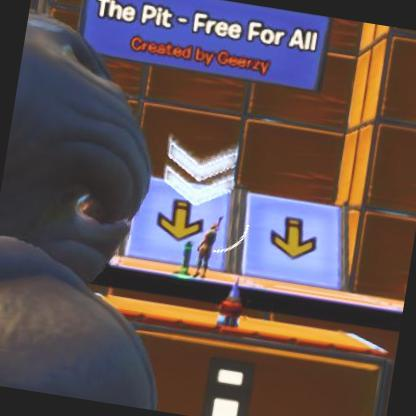person: (194, 223, 222, 278)
